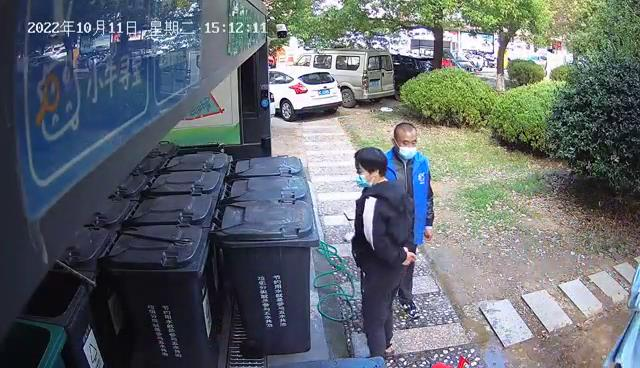person: (349, 146, 417, 360)
worker: (380, 122, 436, 322)
